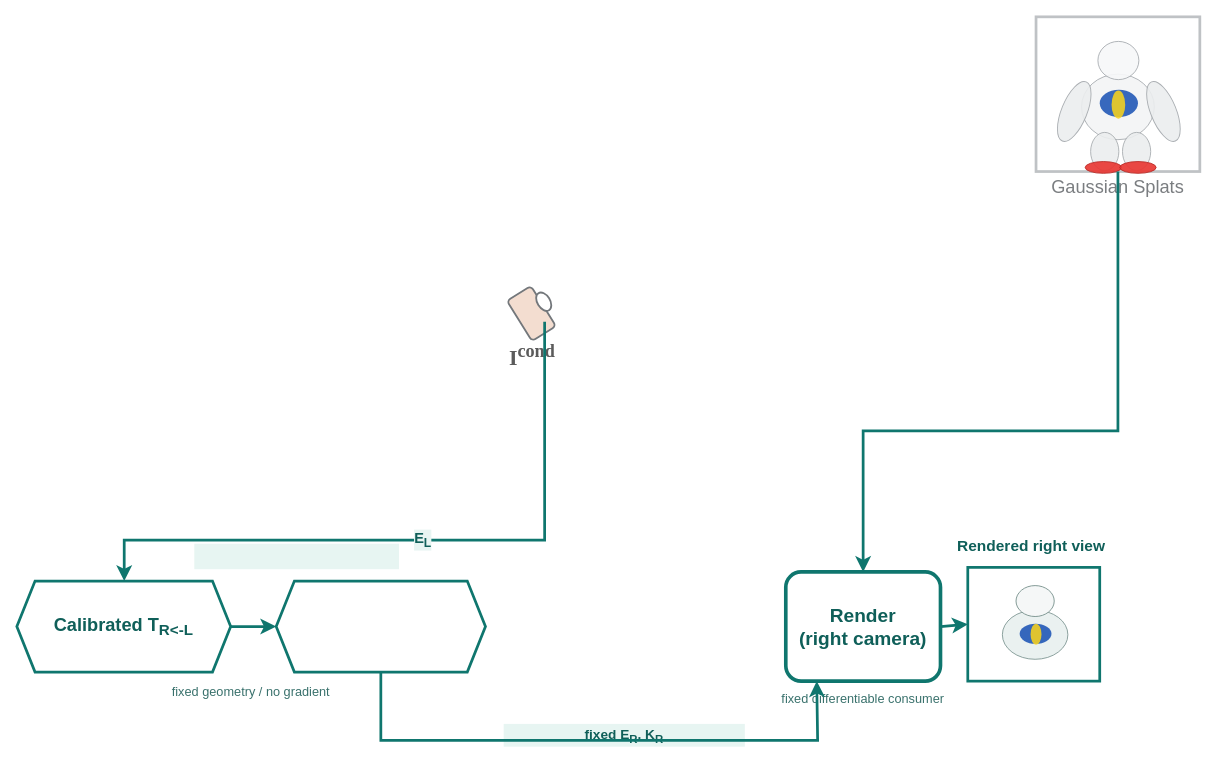
This 1225x766 diagram has some shape labels left out. Here are the shapes that lost their labels. From the top down, the centre of each, then its label:
point 296,556: E R = T R<-L E L
point 380,626: Fixed right camera E R , K R
